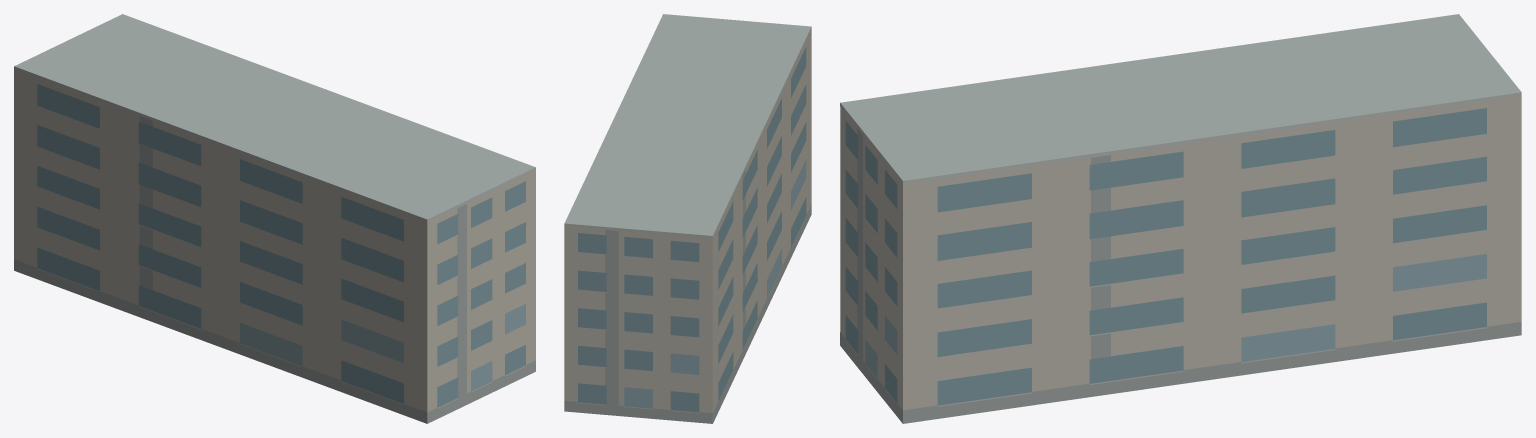
Rendered from residential-7ff87f5d-83cc-407c-8a2d-db58ea6ead23.glb.
3 renders of one model, left to right at view 1: azimuth 30°, elevation 25°; view 2: azimuth 150°, elevation 25°; view 3: azimuth 270°, elevation 25°, orthographic. The views are drawn at different scales.
Parts seen in each view (by area): view 1: residential-7ff87f5d-83cc-407c-8a2d-db58ea6ead23.tmp; view 2: residential-7ff87f5d-83cc-407c-8a2d-db58ea6ead23.tmp; view 3: residential-7ff87f5d-83cc-407c-8a2d-db58ea6ead23.tmp.
Boxes of the visible parts, left/top/right/bottom form: residential-7ff87f5d-83cc-407c-8a2d-db58ea6ead23.tmp: left=14, top=14, right=535, bottom=423; residential-7ff87f5d-83cc-407c-8a2d-db58ea6ead23.tmp: left=564, top=14, right=811, bottom=423; residential-7ff87f5d-83cc-407c-8a2d-db58ea6ead23.tmp: left=840, top=14, right=1521, bottom=423.
Bounding box in the file's own units: 22.49 × 15.25 × 38.78.
